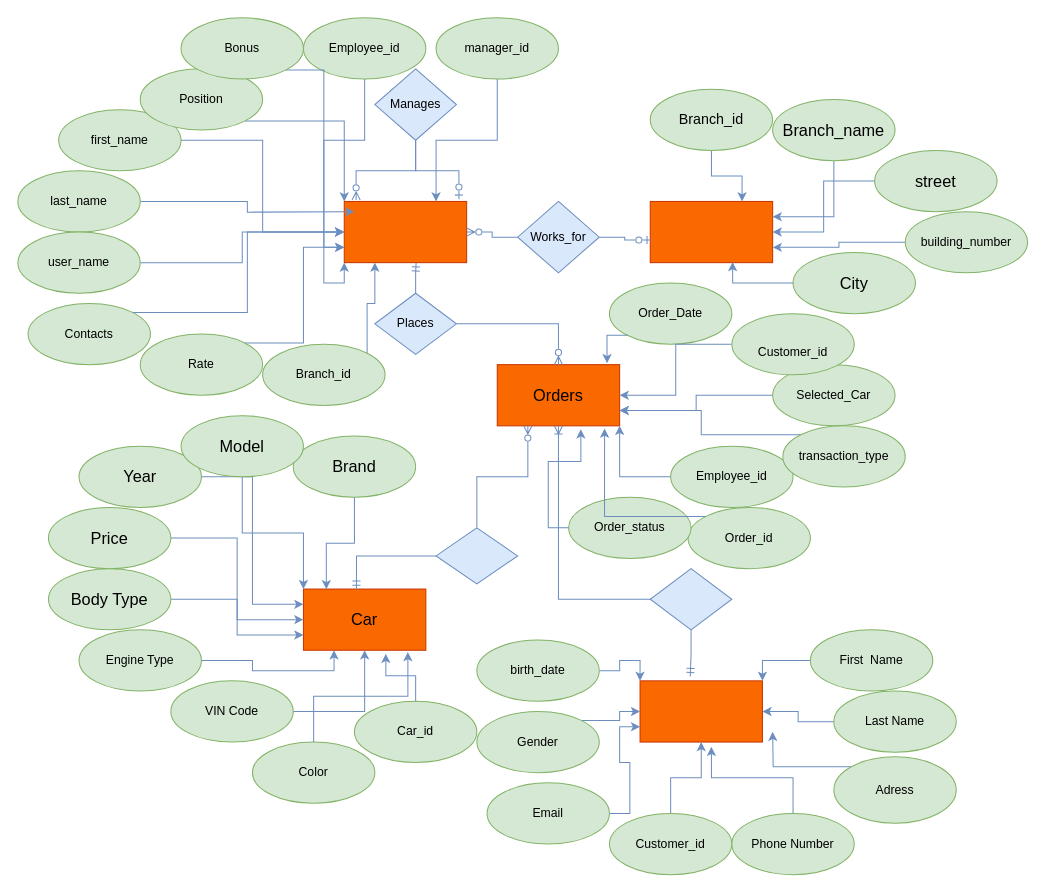
The diagram is 1046 pixels wide and 893 high, and some of its shapes have lost their labels. Each missing label, with the centre of its shape:
"Branch" belongs at pixel 711 231.
"buys" belongs at pixel 690 599.
"Customer" belongs at pixel 700 711.
"Employee" belongs at pixel 405 231.
"sells" belongs at pixel 476 555.
